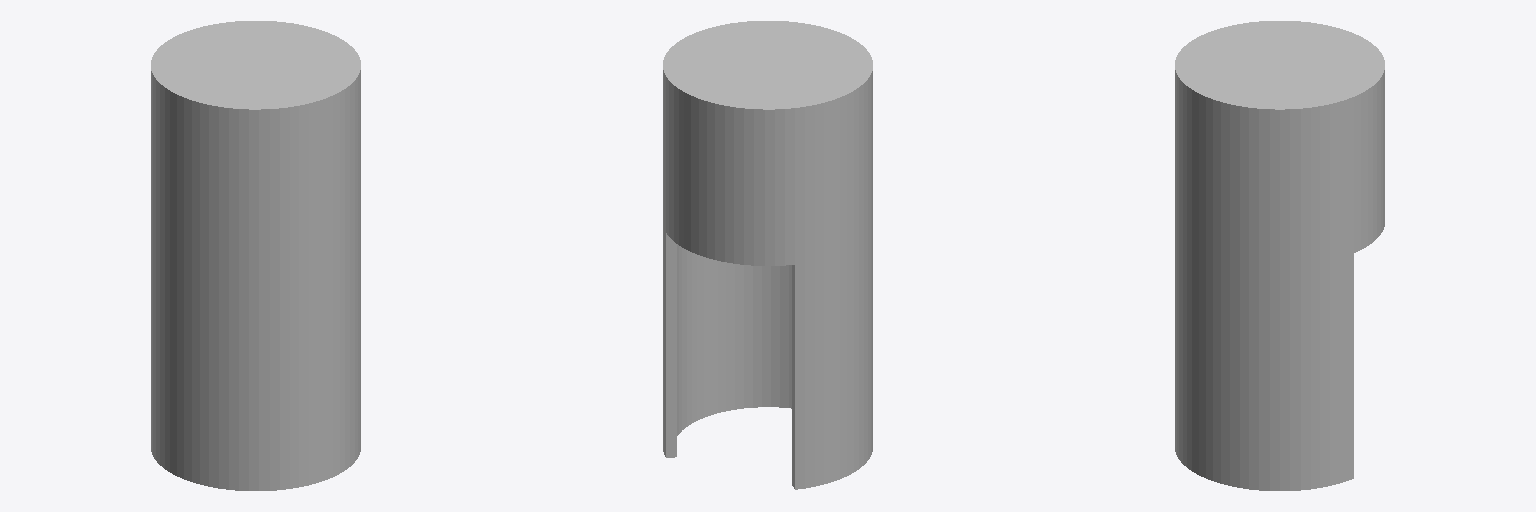
Rendered from pod_outer.obj.
3 renders of one model, left to right at view 1: azimuth 30°, elevation 25°; view 2: azimuth 150°, elevation 25°; view 3: azimuth 270°, elevation 25°, orthographic.
Parts seen in each view (by area): view 1: Cylinder; view 2: Cylinder; view 3: Cylinder.
Part boxes in pixels (x1,y1,x2,y2): Cylinder: (151, 21, 360, 490); Cylinder: (663, 21, 872, 489); Cylinder: (1175, 21, 1384, 490).
Size of the model in its own units: 4 by 8 by 4.